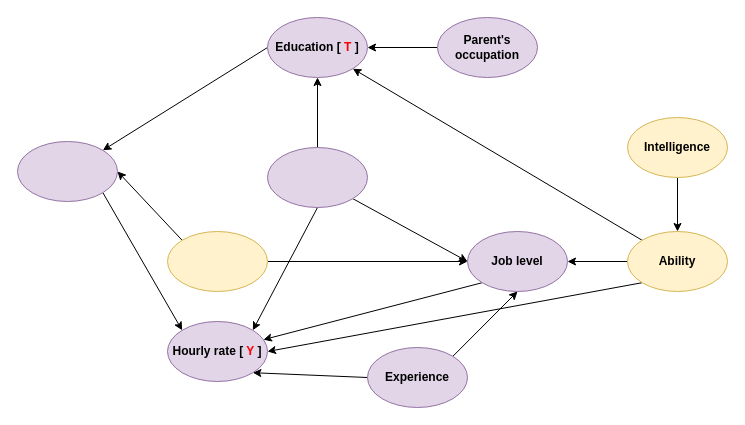
The diagram is 745 pixels wide and 425 high, and some of its shapes have lost their labels. Here are the shapes that lost their labels. From the top down, the box of each, then its label:
(16, 140, 118, 202): Industry
(266, 146, 368, 208): Sex, Race, Age
(166, 230, 268, 292): Personal Pref.
